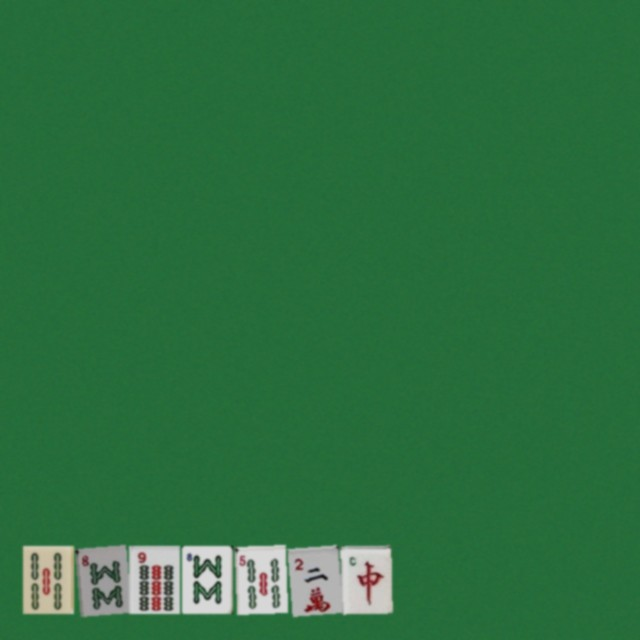tile: (22, 545, 73, 613), (75, 545, 126, 613), (128, 545, 179, 613), (181, 545, 232, 613), (234, 545, 285, 613), (287, 545, 338, 613), (340, 545, 391, 613)
